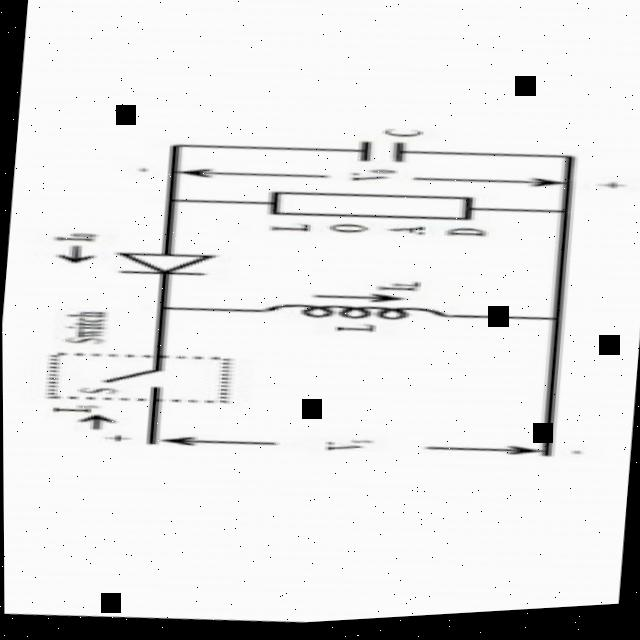capacitor: (291, 131, 454, 178)
diode: (71, 233, 256, 299)
inductor: (243, 289, 469, 345)
resistor: (245, 179, 481, 242)
switch: (45, 343, 224, 413)
